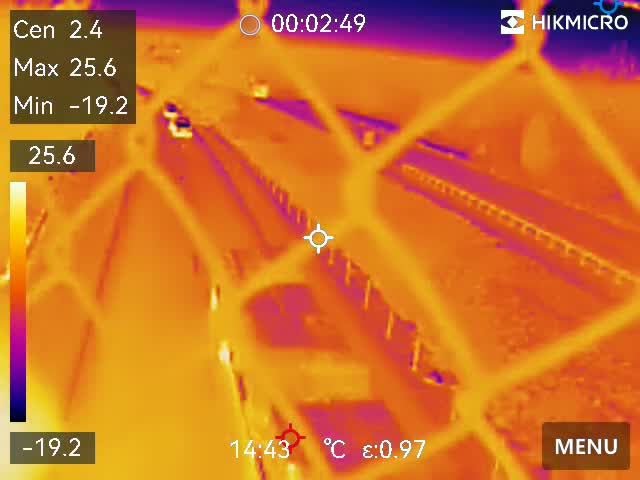heavyTruck: (206, 245, 392, 480)
vehicle: (167, 116, 193, 142), (155, 97, 181, 121), (245, 78, 276, 98)
